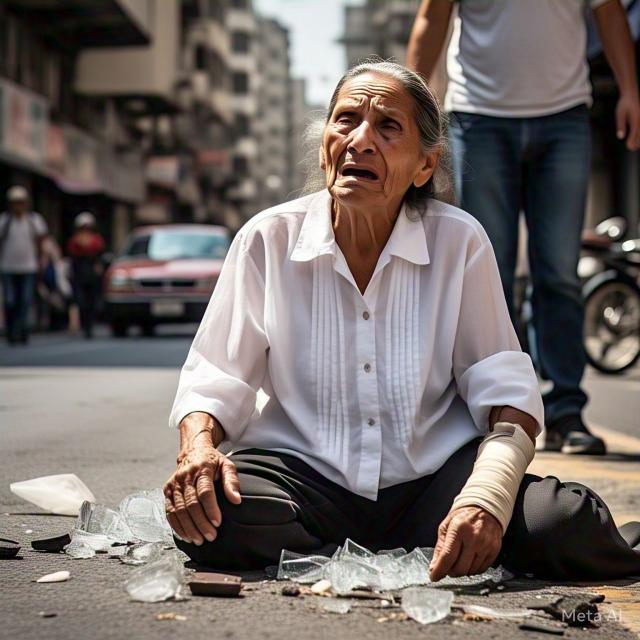injury: (318, 62, 440, 254)
no injury: (164, 60, 617, 581)
